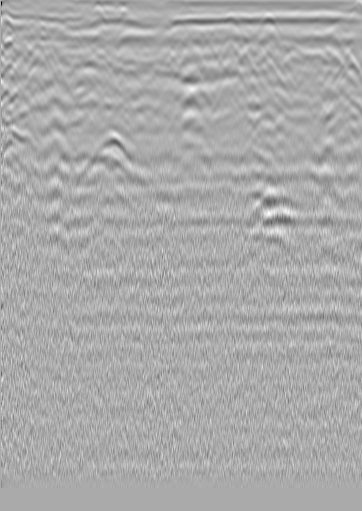가스: (76, 131, 143, 177)
상수: (326, 27, 346, 47)
우수: (228, 36, 248, 56)
